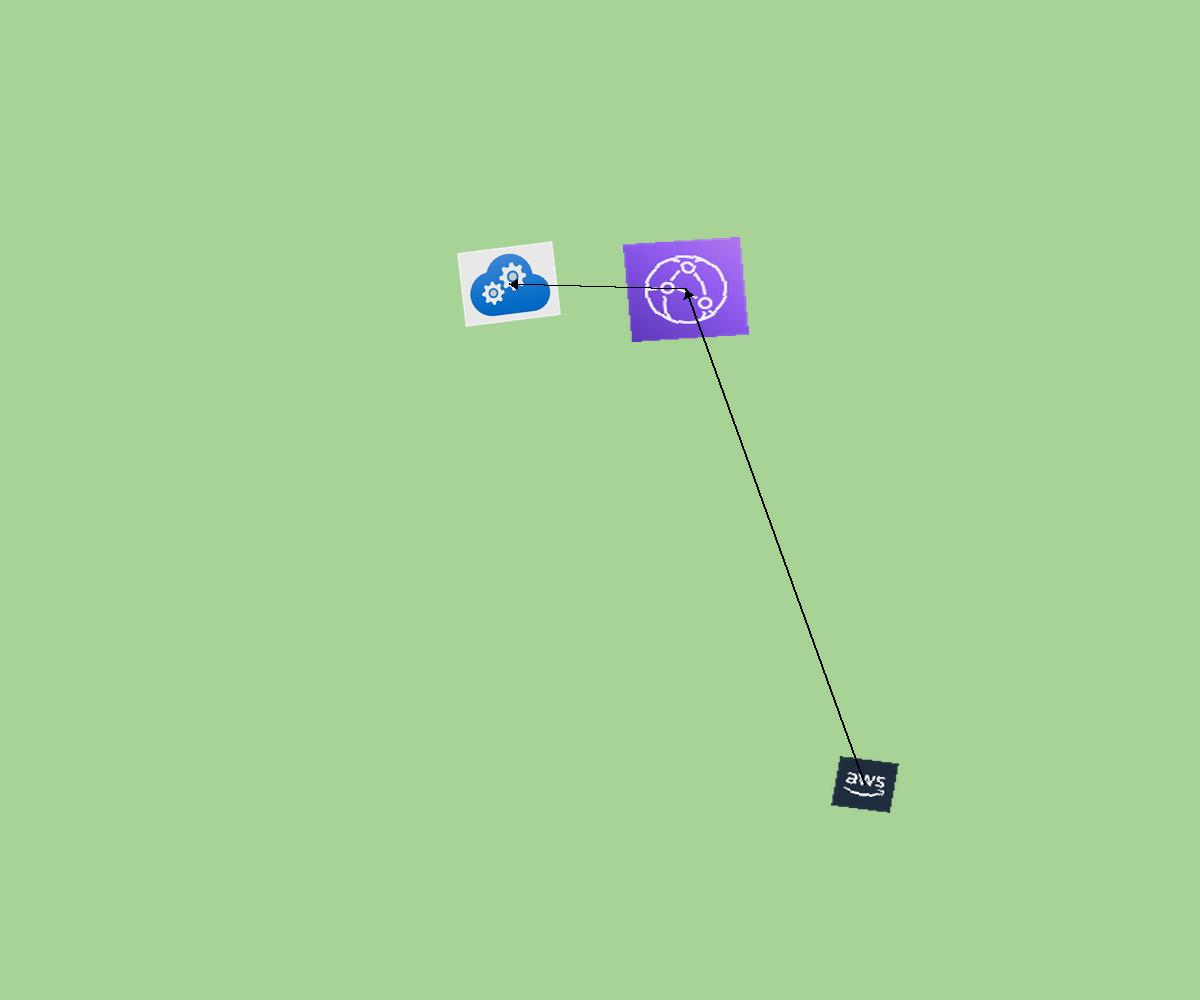AWS-Cloud-logo: (831, 756, 899, 813)
AWS-CloudFront: (623, 237, 749, 342)
Azure_cloud_services: (457, 241, 561, 327)
